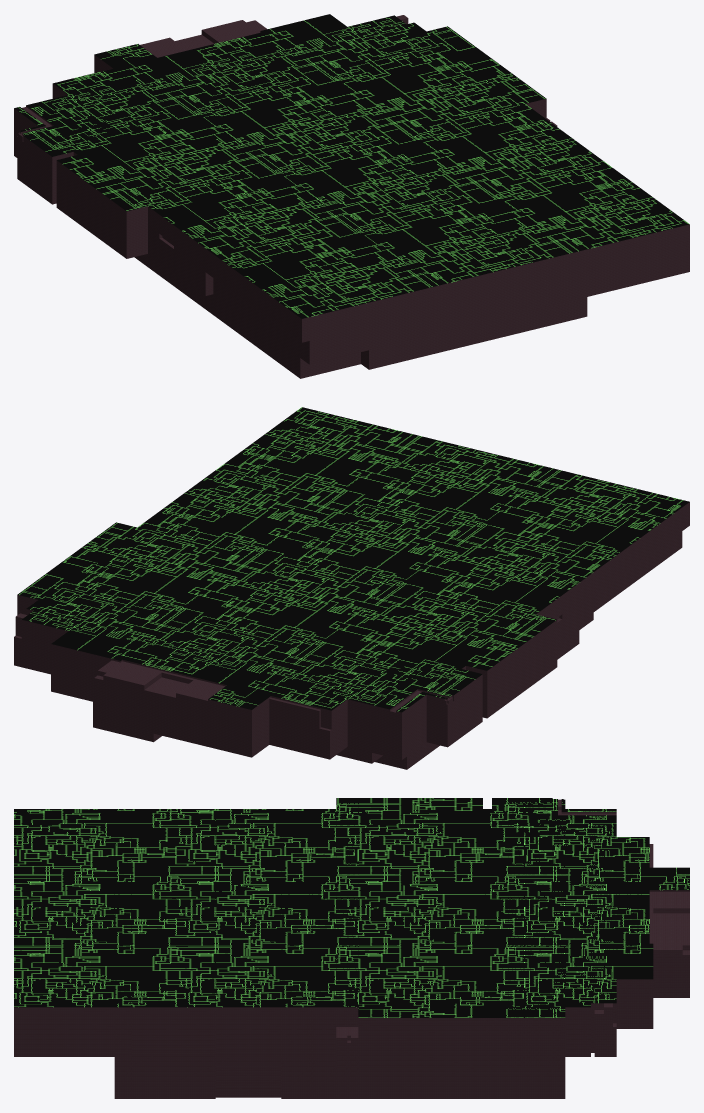
File: terrainV4-transformed.glb
3 renders of one model, top to bottom at view 1: azimuth 30°, elevation 25°; view 2: azimuth 150°, elevation 25°; view 3: azimuth 270°, elevation 25°, orthographic. The views are drawn at different scales.
Parts seen in each view (by area): view 1: Cube; view 2: Cube; view 3: Cube.
Boxes of the visible parts, <box> form: Cube: <box>14,14,689,378</box>; Cube: <box>14,407,689,769</box>; Cube: <box>14,798,689,1098</box>.
Bounding box in the file's own units: 284 × 90 × 369.
Materials: 2 (2 with a texture image).
